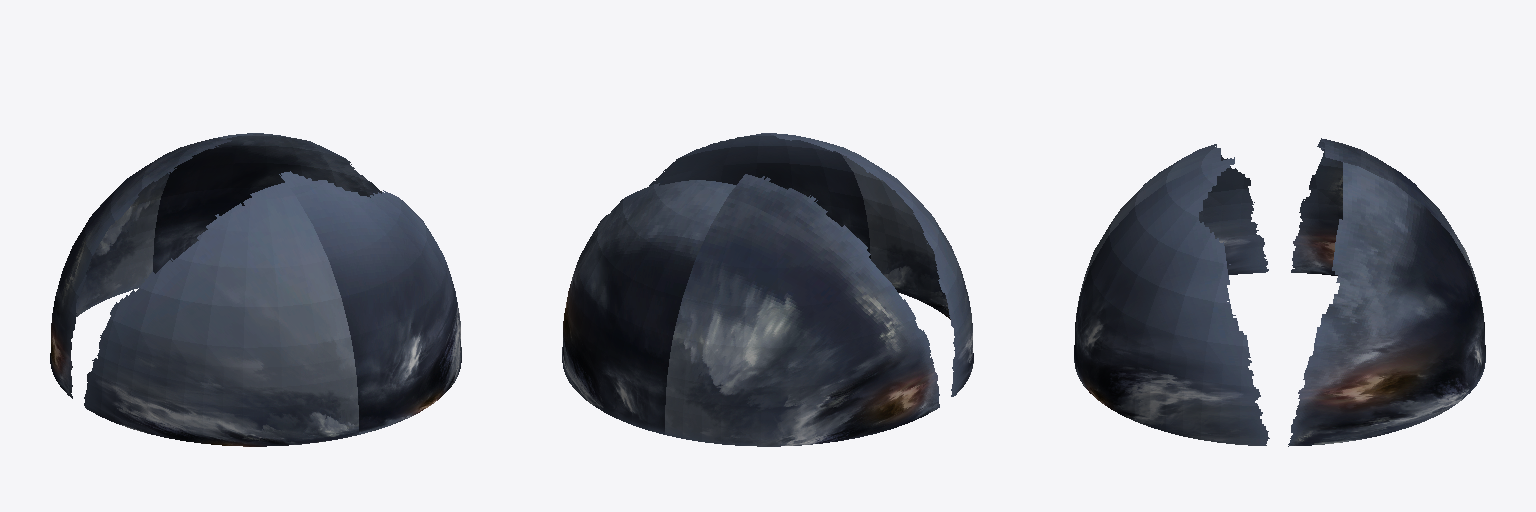
3 renders of one model, left to right at view 1: azimuth 30°, elevation 25°; view 2: azimuth 150°, elevation 25°; view 3: azimuth 270°, elevation 25°, orthographic.
Parts seen in each view (by area): view 1: EX_ASE_Cloud00_SM; view 2: EX_ASE_Cloud00_SM; view 3: EX_ASE_Cloud00_SM.
Boxes of the visible parts, box(x1,y1,x2,y2) form: EX_ASE_Cloud00_SM: box(50, 133, 461, 446); EX_ASE_Cloud00_SM: box(562, 133, 973, 446); EX_ASE_Cloud00_SM: box(1074, 138, 1485, 446).
Bounding box in the file's own units: 378459 × 210299 × 378459.
1 materials, 1 textured.